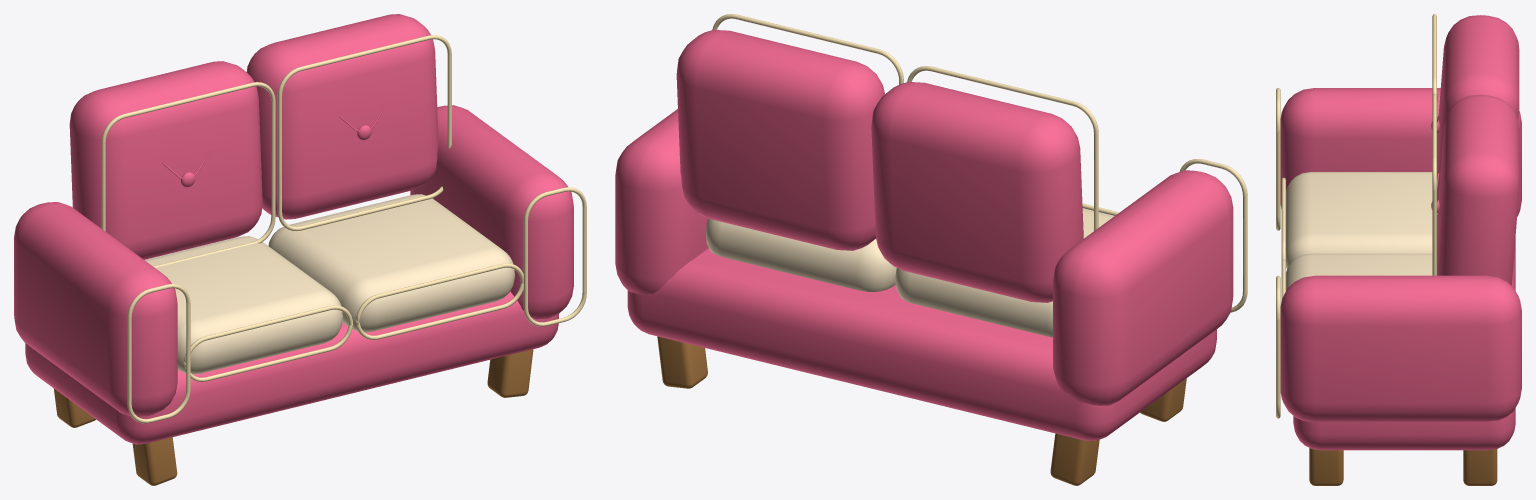
Rendered from easy_couch_08.fbx.
3 views of the same model, side by side, from view 1: azimuth 30°, elevation 25°; view 2: azimuth 150°, elevation 25°; view 3: azimuth 270°, elevation 25° (orthographic). The views are drawn at different scales.
Parts seen in each view (by area): view 1: EC08_LOD0; view 2: EC08_LOD0; view 3: EC08_LOD0.
Boxes of the visible parts, x1,y1,x2,y2 form: EC08_LOD0: (14,14,586,485); EC08_LOD0: (615,14,1247,485); EC08_LOD0: (1276,14,1521,485).
Size of what is drawn, in the model's own units: 2.12 by 1.42 by 1.01.
